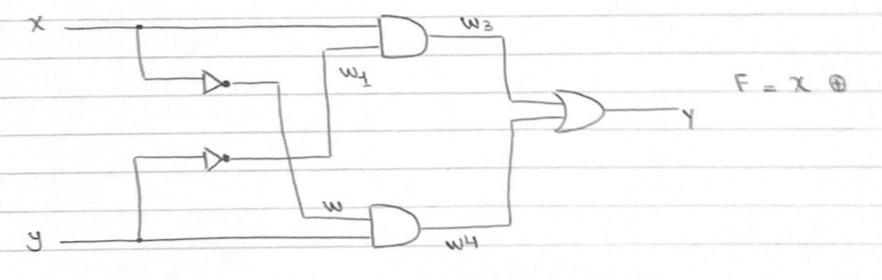AND: (361, 197, 429, 255), (373, 9, 435, 67)
NOT: (193, 139, 236, 177), (195, 62, 235, 99)
OR: (545, 76, 612, 144)
